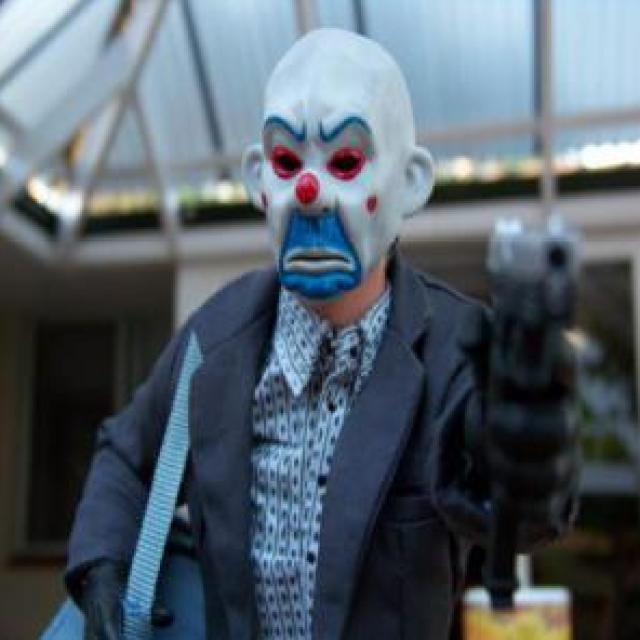pistol: (482, 218, 585, 536)
